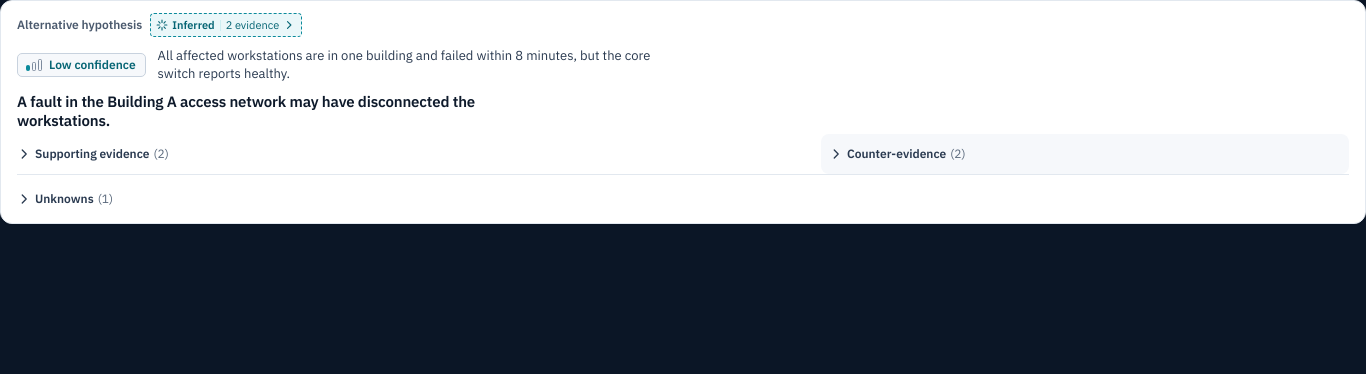
HypothesisCard › the inferred tag on the cause toggles the supporting evidence
This screenshot has width=1366, height=374.
Click the button with aria-label "Inferred by AI, 2 evidence items".
click(226, 25)  # box [150,13,302,37]
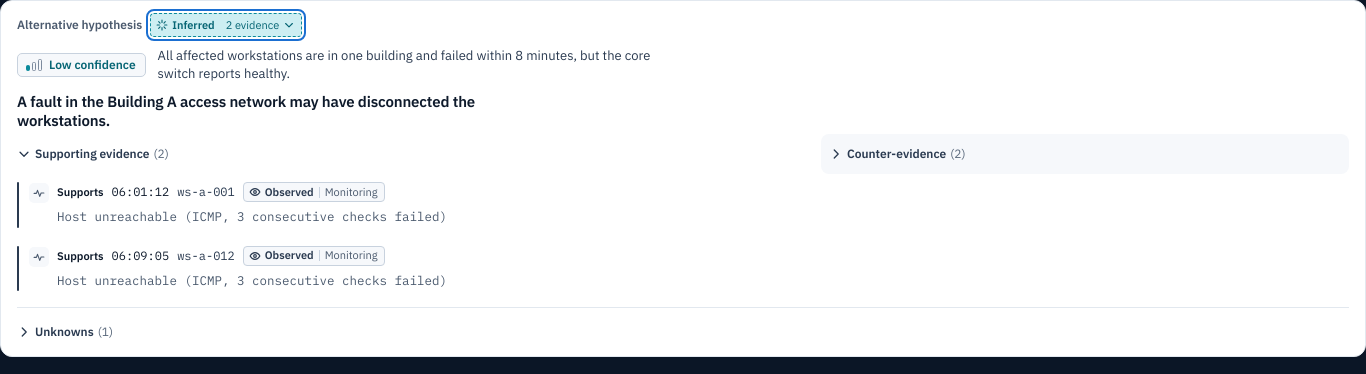
Expected: the button with aria-label "Inferred by AI, 2 evidence items" is expanded, [150,13,302,37]
Expected: the button "Supporting evidence (2)" is expanded, [15,142,175,166]
